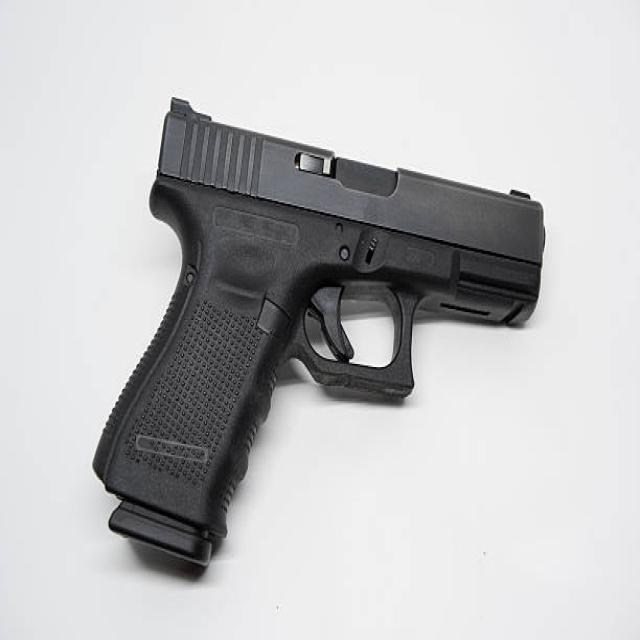pistol: (86, 93, 550, 577)
